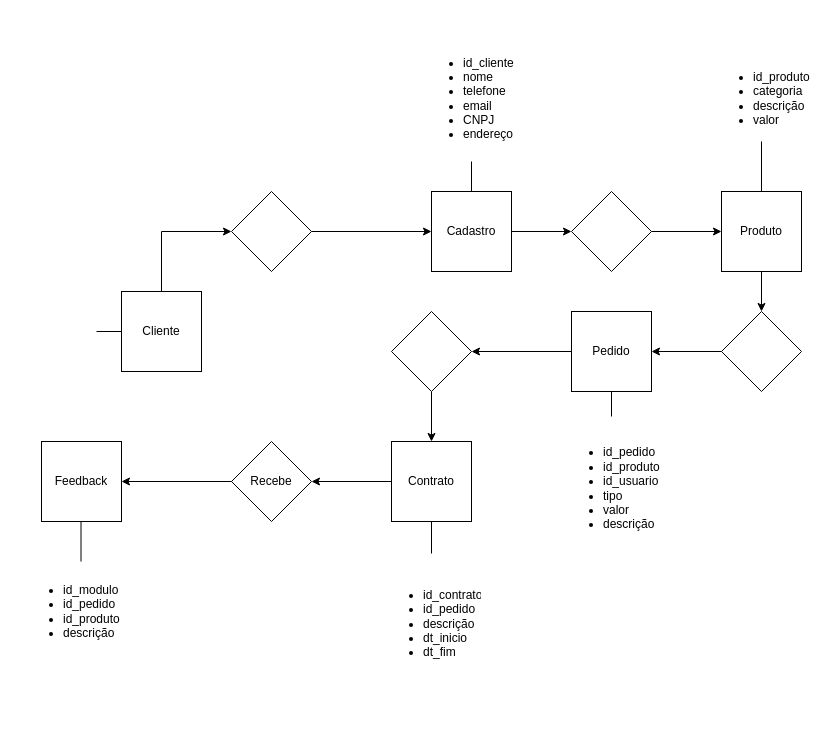
This 834x737 diagram has some shape labels left out. The shapes that lost their labels are listed below. From the top down, each one's centre as x and y in pixels, then its label:
At (271,231): "Cria".
At (611,231): "Escolhe".
At (431,351): "Gera".
At (761,351): "Realiza".
